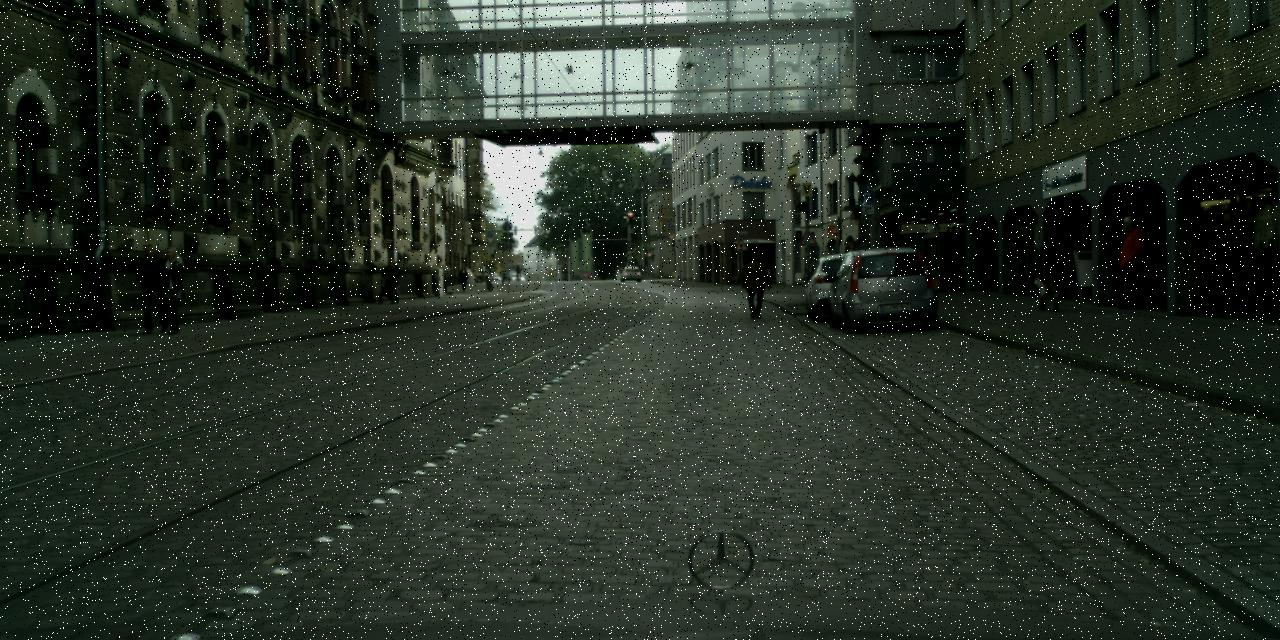ped: (1110, 215, 1148, 309), (134, 242, 170, 332), (154, 245, 190, 334), (1034, 232, 1065, 310), (742, 253, 768, 318), (838, 242, 859, 296), (382, 258, 400, 302), (458, 265, 468, 291), (515, 264, 519, 276)
